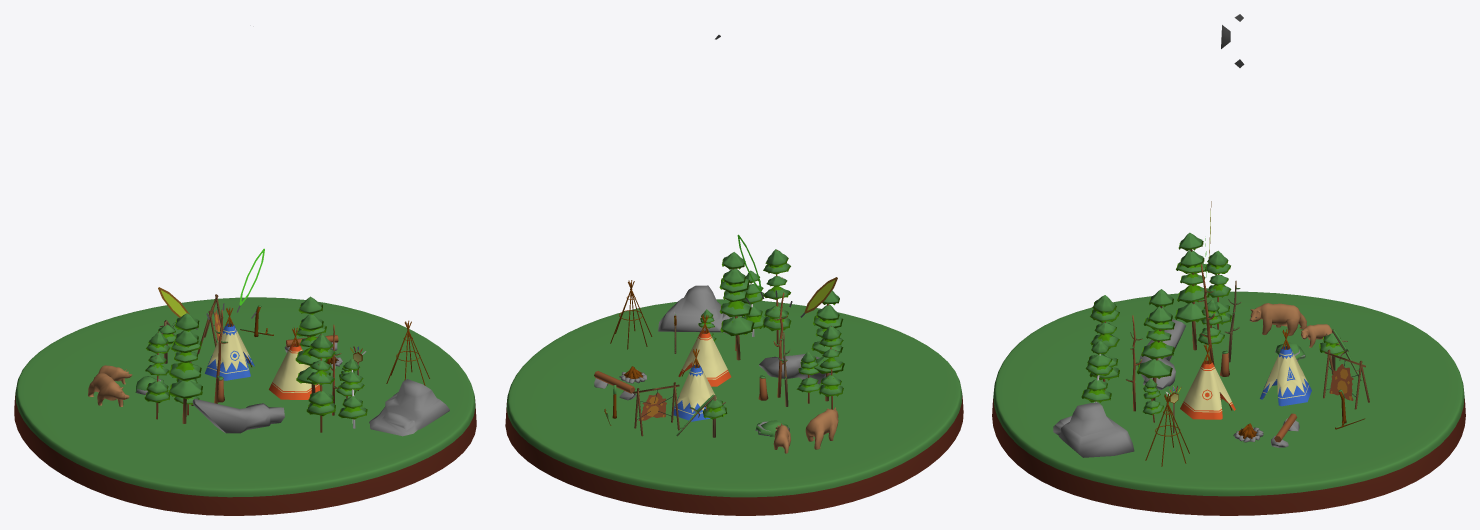
The model's file is Main_Menu_Scene.fbx.
The picture shows the model from 3 angles, left to right: view 1: azimuth 30°, elevation 25°; view 2: azimuth 150°, elevation 25°; view 3: azimuth 270°, elevation 25°; orthographic projection. The views are drawn at different scales.
Parts seen in each view (by area): view 1: Plane_0, Cube.022_19, Cylinder.124_14, Cube.046_5, Cone.003_68, Cylinder.106_16, Cone_69, Cylinder.119_15, Cylinder.125_13, Cylinder.087_17, Cube.052_55; view 2: Plane_0, Cylinder.119_15, Cube.022_19, Cone_69, Cylinder.106_16, Cone.003_68, Cylinder.124_14, Cylinder.125_13, Cube.046_5, Cube.052_55, Cylinder.087_17, Cylinder.126_12 (+4 smaller); view 3: Plane_0, Cube.022_19, Cylinder.119_15, Cylinder.124_14, Cone_69, Cone.003_68, Cylinder.106_16, Cube.052_55, Cylinder.087_17, Cylinder.125_13, Cube.046_5, Cylinder.126_12 (+3 smaller).
Part boxes in pixels (bbox=[...]): Plane_0: bbox=[14, 297, 476, 515]; Cube.022_19: bbox=[369, 379, 449, 436]; Cylinder.124_14: bbox=[168, 313, 202, 423]; Cube.046_5: bbox=[192, 399, 284, 433]; Cone.003_68: bbox=[205, 307, 254, 380]; Cylinder.106_16: bbox=[306, 333, 335, 432]; Cone_69: bbox=[269, 327, 320, 399]; Cylinder.119_15: bbox=[295, 296, 330, 393]; Cylinder.125_13: bbox=[144, 331, 170, 419]; Cylinder.087_17: bbox=[338, 358, 367, 428]; Cube.052_55: bbox=[88, 373, 129, 406]; Plane_0: bbox=[505, 299, 963, 515]; Cylinder.119_15: bbox=[719, 252, 754, 360]; Cube.022_19: bbox=[658, 285, 741, 334]; Cone_69: bbox=[678, 314, 731, 386]; Cylinder.106_16: bbox=[762, 249, 791, 346]; Cone.003_68: bbox=[673, 348, 716, 421]; Cylinder.124_14: bbox=[811, 290, 844, 401]; Cylinder.125_13: bbox=[819, 325, 843, 409]; Cube.046_5: bbox=[759, 354, 832, 383]; Cube.052_55: bbox=[805, 407, 838, 449]; Cylinder.087_17: bbox=[741, 270, 764, 336]; Cylinder.126_12: bbox=[796, 351, 821, 403]; Plane_0: bbox=[992, 291, 1465, 515]; Cube.022_19: bbox=[1053, 402, 1134, 457]; Cylinder.119_15: bbox=[1137, 289, 1175, 400]; Cylinder.124_14: bbox=[1174, 232, 1210, 350]; Cone_69: bbox=[1180, 344, 1235, 419]; Cone.003_68: bbox=[1260, 329, 1311, 406]; Cylinder.106_16: bbox=[1089, 295, 1119, 389]; Cube.052_55: bbox=[1249, 303, 1306, 335]; Cylinder.087_17: bbox=[1081, 341, 1112, 402]; Cylinder.125_13: bbox=[1206, 250, 1231, 329]; Cube.046_5: bbox=[1138, 319, 1185, 389]; Cylinder.126_12: bbox=[1197, 299, 1224, 344].
Bounding box in the file's own units: 1088 × 1048 × 1088.
